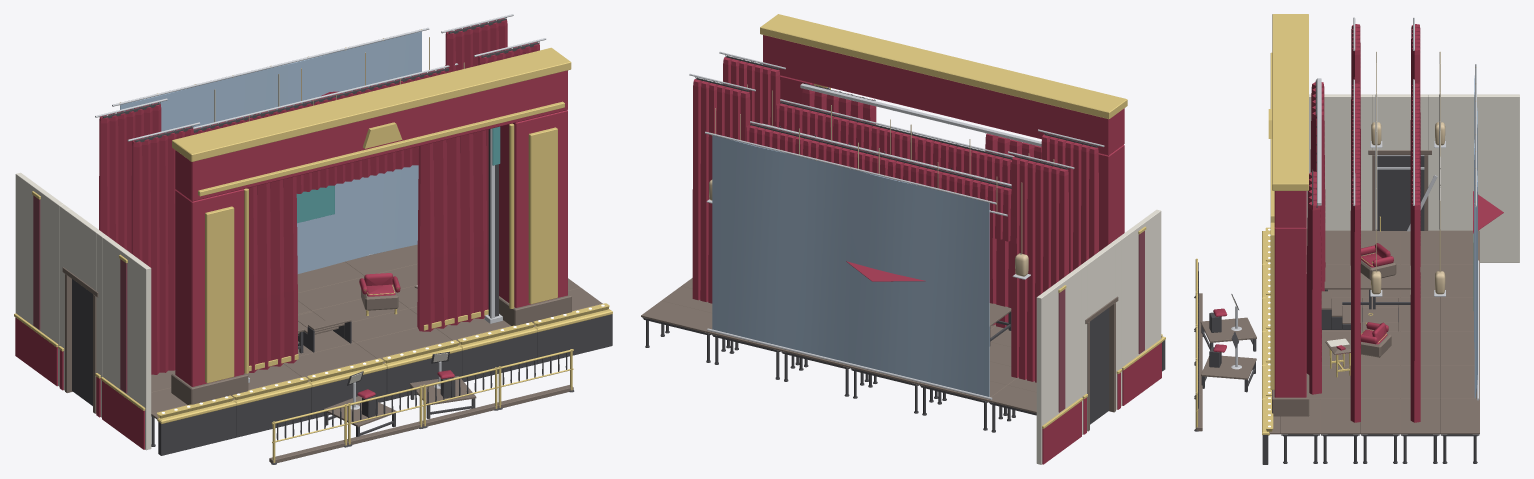
Rendered from cabaret-stage.glb.
3 views of the same model, side by side, from view 1: azimuth 30°, elevation 25°; view 2: azimuth 150°, elevation 25°; view 3: azimuth 270°, elevation 25° (orthographic). The views are drawn at different scales.
Parts seen in each view (by area): view 1: 036-proscenium-arch-frame0, 036-proscenium-arch-frame1, 046-backdrop-cloth-on-batten0, 039-house-tabs-on-track-opentab-right, 039-house-tabs-on-track-opentab-left, 040-stage-leg-drape0, 155-house-wall-module0, 153-house-wall-module0, 043-stage-leg-drape0, 154-scene-dock-door-module0, 036-proscenium-arch-frame2, 030-apron-edge-with-footlight-strip0 (+45 smaller); view 2: 046-backdrop-cloth-on-batten0, 036-proscenium-arch-frame0, 043-stage-leg-drape0, 036-proscenium-arch-frame1, 044-stage-leg-drape0, 042-stage-border-drape0, 045-stage-border-drape0, 153-house-wall-module0, 155-house-wall-module0, 040-stage-leg-drape0, 154-scene-dock-door-module0, 039-house-tabs-on-track-opentab-left (+18 smaller); view 3: 153-house-wall-module0, 036-proscenium-arch-frame1, 036-proscenium-arch-frame0, 154-scene-dock-door-module0, 155-house-wall-module0, 039-house-tabs-on-track-opentab-right, 154-scene-dock-door-moduledoor-1, 044-stage-leg-drape0, 041-stage-leg-drape0, 027-stage-deck-module0, 039-house-tabs-on-track-opentab-left, 025-stage-deck-module0 (+44 smaller).
Part boxes in pixels (x1,y1,x2,y2): 036-proscenium-arch-frame0: (175, 70, 567, 386); 036-proscenium-arch-frame1: (172, 47, 571, 383); 046-backdrop-cloth-on-batten0: (120, 31, 421, 273); 039-house-tabs-on-track-opentab-right: (417, 129, 488, 331); 039-house-tabs-on-track-opentab-left: (247, 176, 297, 372); 040-stage-leg-drape0: (131, 126, 193, 374); 155-house-wall-module0: (102, 236, 151, 450); 153-house-wall-module0: (15, 172, 63, 386); 043-stage-leg-drape0: (99, 102, 161, 253); 154-scene-dock-door-module0: (59, 204, 107, 417); 036-proscenium-arch-frame2: (171, 293, 571, 404); 030-apron-edge-with-footlight-strip0: (158, 406, 236, 455); 046-backdrop-cloth-on-batten0: (712, 135, 989, 396); 036-proscenium-arch-frame0: (763, 35, 1124, 251); 043-stage-leg-drape0: (1011, 156, 1068, 382); 036-proscenium-arch-frame1: (760, 14, 1127, 119); 044-stage-leg-drape0: (692, 79, 750, 303); 042-stage-border-drape0: (775, 103, 1011, 186); 045-stage-border-drape0: (746, 125, 1016, 243); 153-house-wall-module0: (1036, 268, 1081, 464); 155-house-wall-module0: (1117, 209, 1161, 405); 040-stage-leg-drape0: (1041, 134, 1098, 273); 154-scene-dock-door-module0: (1077, 239, 1121, 434); 039-house-tabs-on-track-opentab-left: (985, 133, 1041, 328); 153-house-wall-module0: (1441, 94, 1519, 262); 036-proscenium-arch-frame1: (1268, 14, 1308, 389); 036-proscenium-arch-frame0: (1274, 191, 1306, 397); 154-scene-dock-door-module0: (1360, 94, 1439, 230); 155-house-wall-module0: (1306, 94, 1351, 230); 039-house-tabs-on-track-opentab-right: (1306, 171, 1321, 394); 154-scene-dock-door-moduledoor-1: (1377, 155, 1424, 230); 044-stage-leg-drape0: (1410, 179, 1420, 422); 041-stage-leg-drape0: (1350, 179, 1360, 422); 027-stage-deck-module0: (1360, 399, 1400, 434); 039-house-tabs-on-track-opentab-left: (1310, 82, 1325, 291); 025-stage-deck-module0: (1440, 399, 1479, 434).
Bounding box in the file's own units: 12.2 × 7.34 × 8.17.
